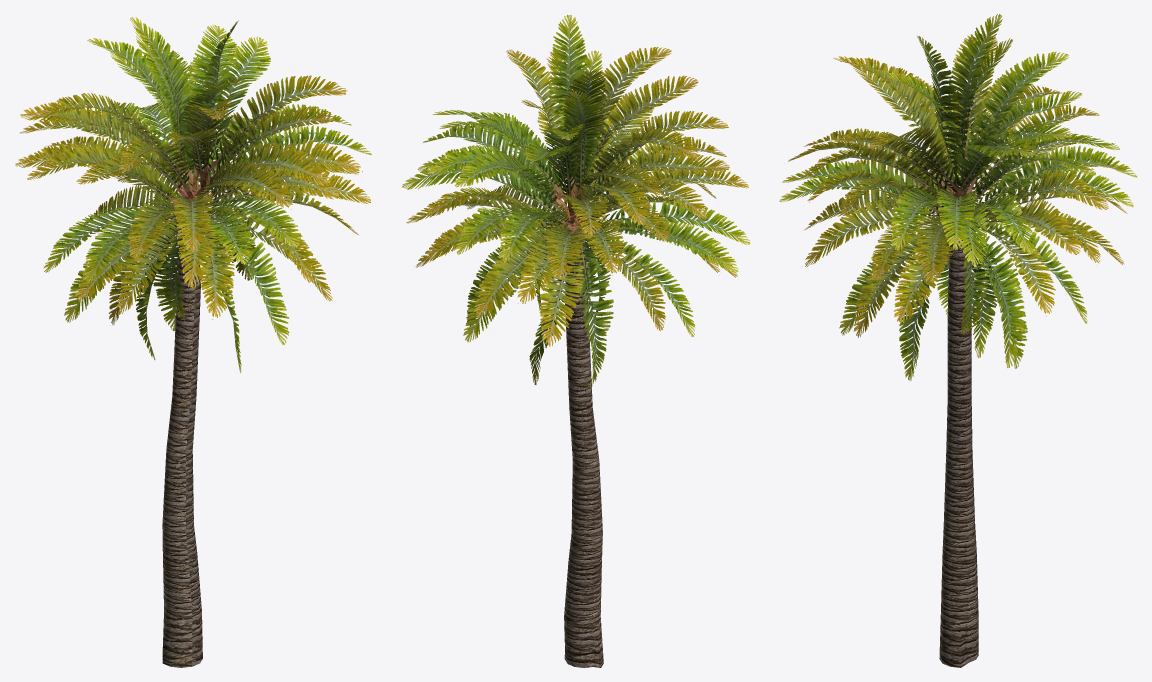
The model's file is palm-tree.glb.
3 views of the same model, side by side, from view 1: azimuth 30°, elevation 25°; view 2: azimuth 150°, elevation 25°; view 3: azimuth 270°, elevation 25° (orthographic). The views are drawn at different scales.
Parts seen in each view (by area): view 1: palm.001; view 2: palm.001; view 3: palm.001.
Boxes of the visible parts, x1,y1,x2,y2 form: palm.001: (15,17,371,667); palm.001: (402,14,750,667); palm.001: (779,14,1137,667).
Size of the model in its own units: 3.68 by 7.16 by 3.63.
Materials: 1 (1 with a texture image).
